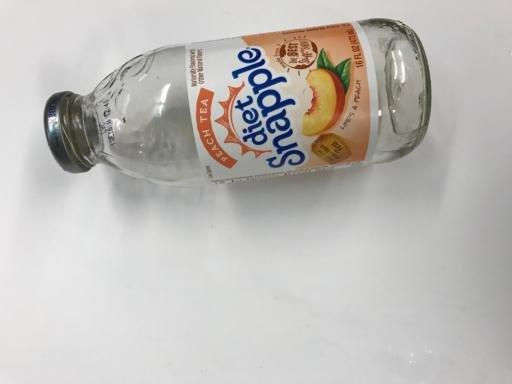botolkaca: (43, 17, 431, 185)
